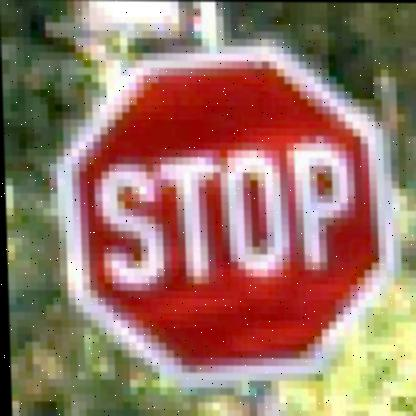Stop Sign: (51, 46, 403, 382)
